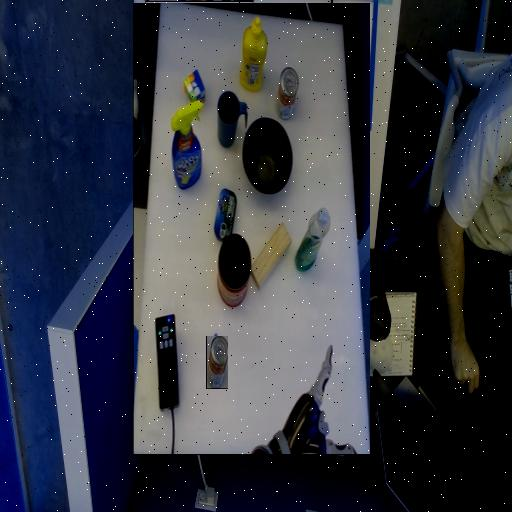bowl: (212, 275, 261, 323)
cleanser: (174, 186, 209, 248)
coffee_can: (254, 149, 286, 221)
jaco: (145, 3, 253, 108)
meat_can: (267, 216, 289, 268)
mug: (257, 322, 286, 351)
mustard_bottle: (238, 389, 263, 414)
rubik: (299, 359, 320, 381)
soup_can: (207, 336, 227, 388)
windex: (302, 268, 333, 355)
wooden_block: (212, 179, 253, 219)
workspace: (134, 3, 370, 454)
